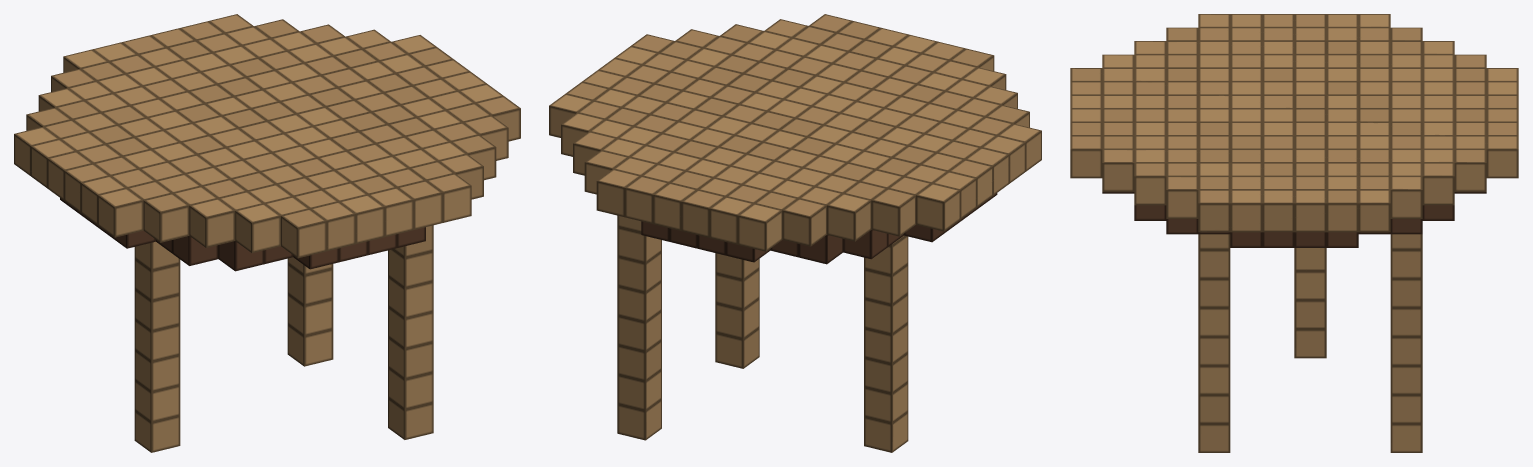
Rendered from smoke_table_round.glb.
3 views of the same model, side by side, from view 1: azimuth 30°, elevation 25°; view 2: azimuth 150°, elevation 25°; view 3: azimuth 270°, elevation 25° (orthographic). The views are drawn at different scales.
Visible parts, largest first — view 1: smoke_table_round; view 2: smoke_table_round; view 3: smoke_table_round.
Part boxes in pixels (x1=…): smoke_table_round: x1=14, y1=14, x2=520, y2=452; smoke_table_round: x1=549, y1=14, x2=1041, y2=452; smoke_table_round: x1=1070, y1=14, x2=1518, y2=452.
Size of the model in its own units: 0.7 by 0.5 by 0.7.
2 materials, 2 textured.
